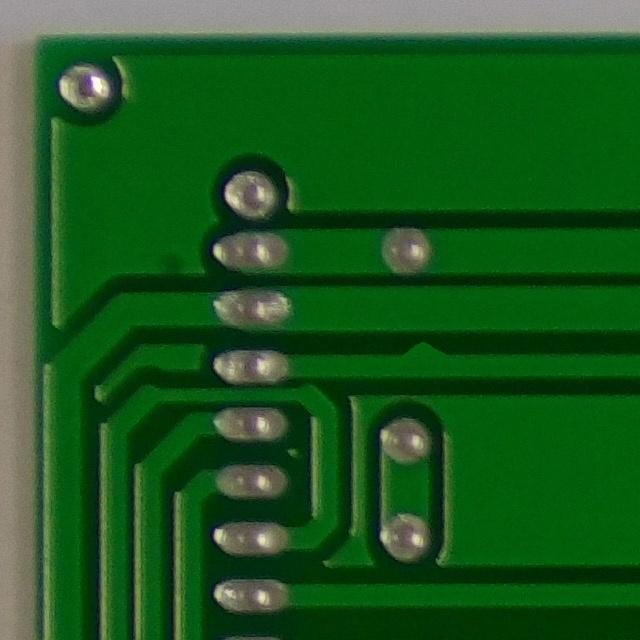spur: (374, 329, 470, 379)
